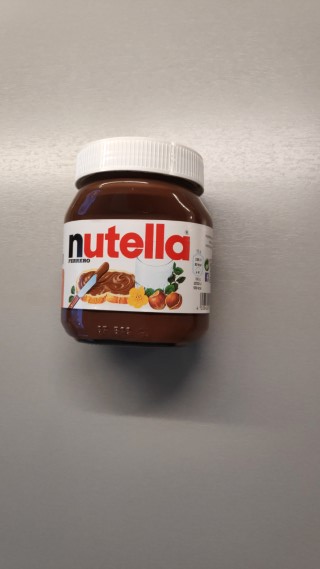nutella: (59, 133, 216, 349)
